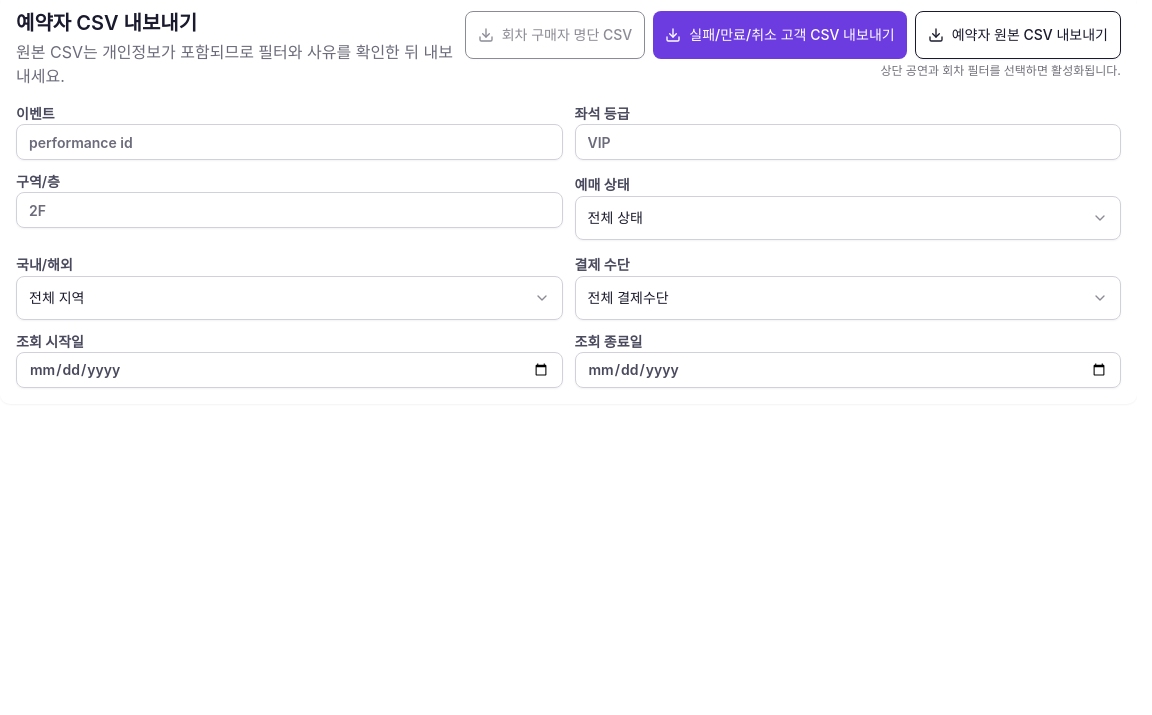
ReservationExportPanel › requires a reason in the raw PII confirmation dialog
Click the button "예약자 원본 CSV 내보내기".
click(1018, 35)  # box [915,11,1121,59]
(page scrolled)
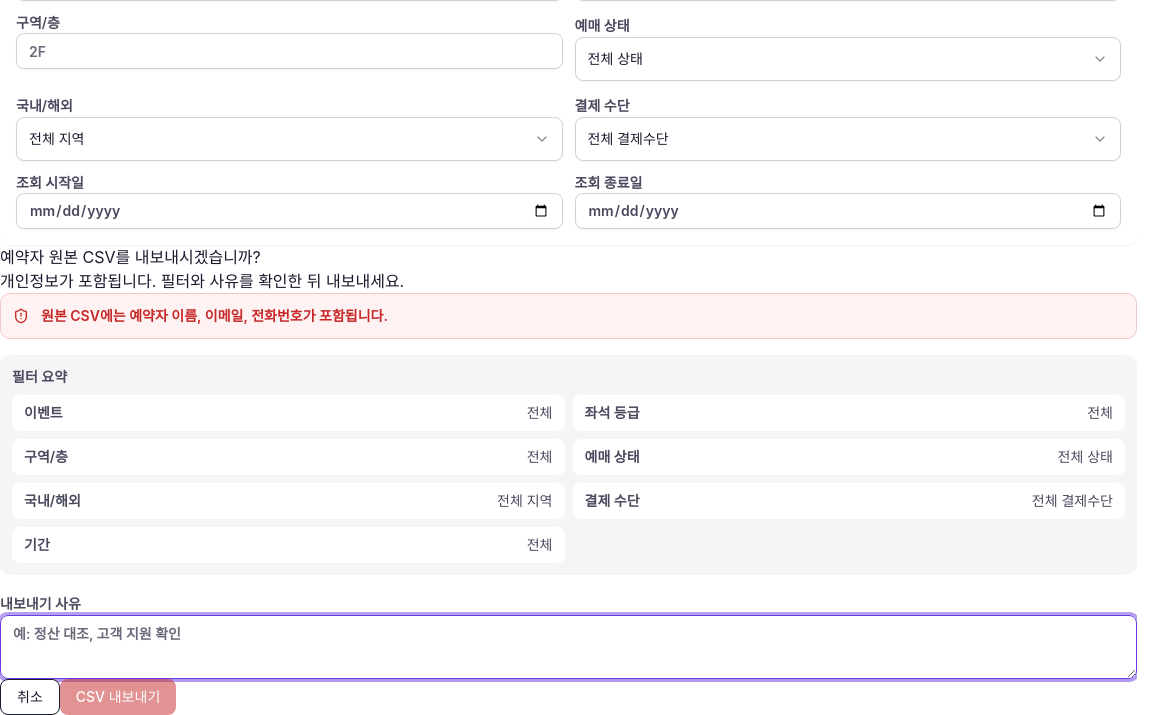
Check: the heading "예약자 원본 CSV를 내보내시겠습니까?" is shown, box [0,247,261,267]
Check: the text "개인정보가 포함됩니다. 필터와 사유를 확인한 뒤 내보내세요." is shown, box [0,271,404,291]
Check: the button "CSV 내보내기" is disabled, box [60,679,176,714]
Type "정산 대조" into the text box labelled "내보내기 사유".
click(568, 647); type("정산 대조")  # box [0,615,1137,679]
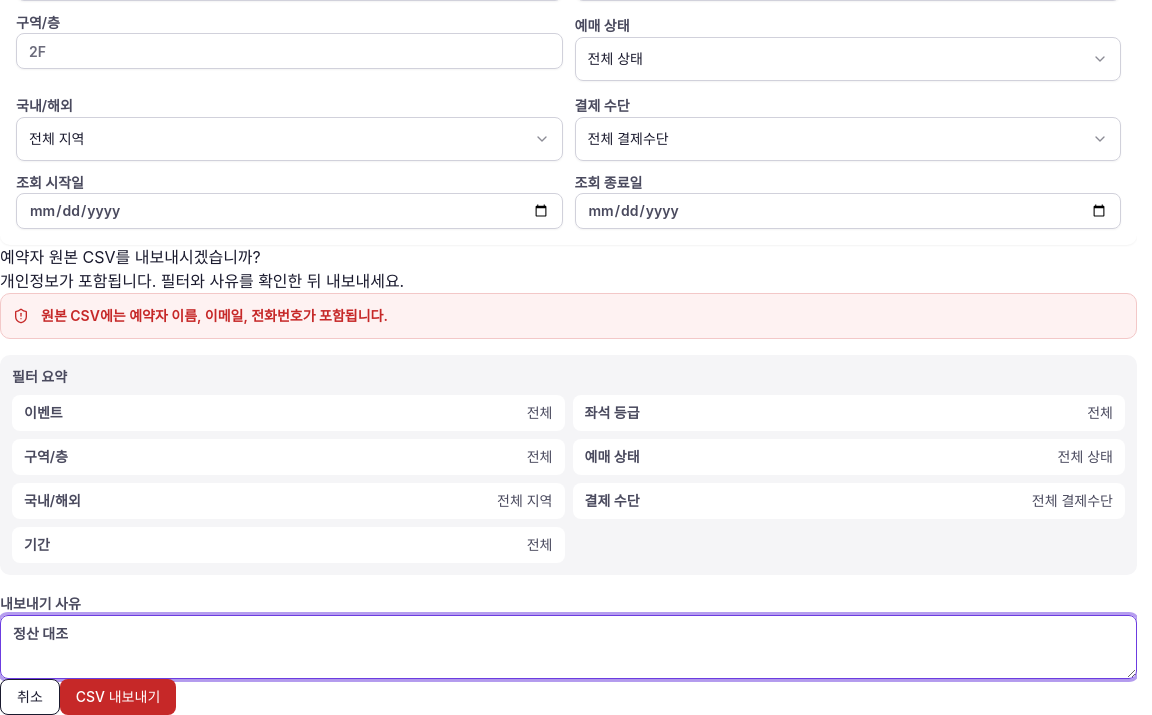
Check: the button "CSV 내보내기" is enabled, box [60,679,176,714]
